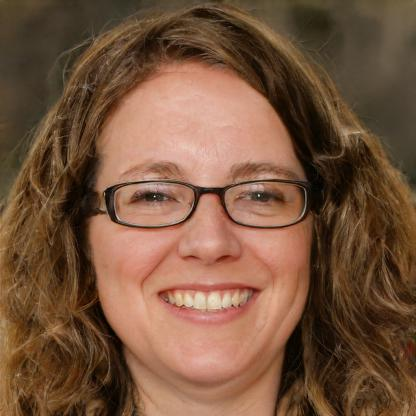glasses: (92, 176, 312, 234)
